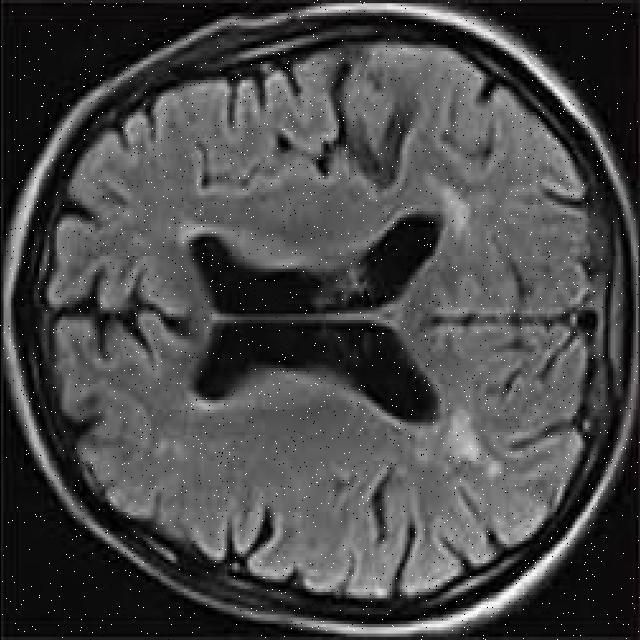No_Tumor: (3, 3, 639, 635)
